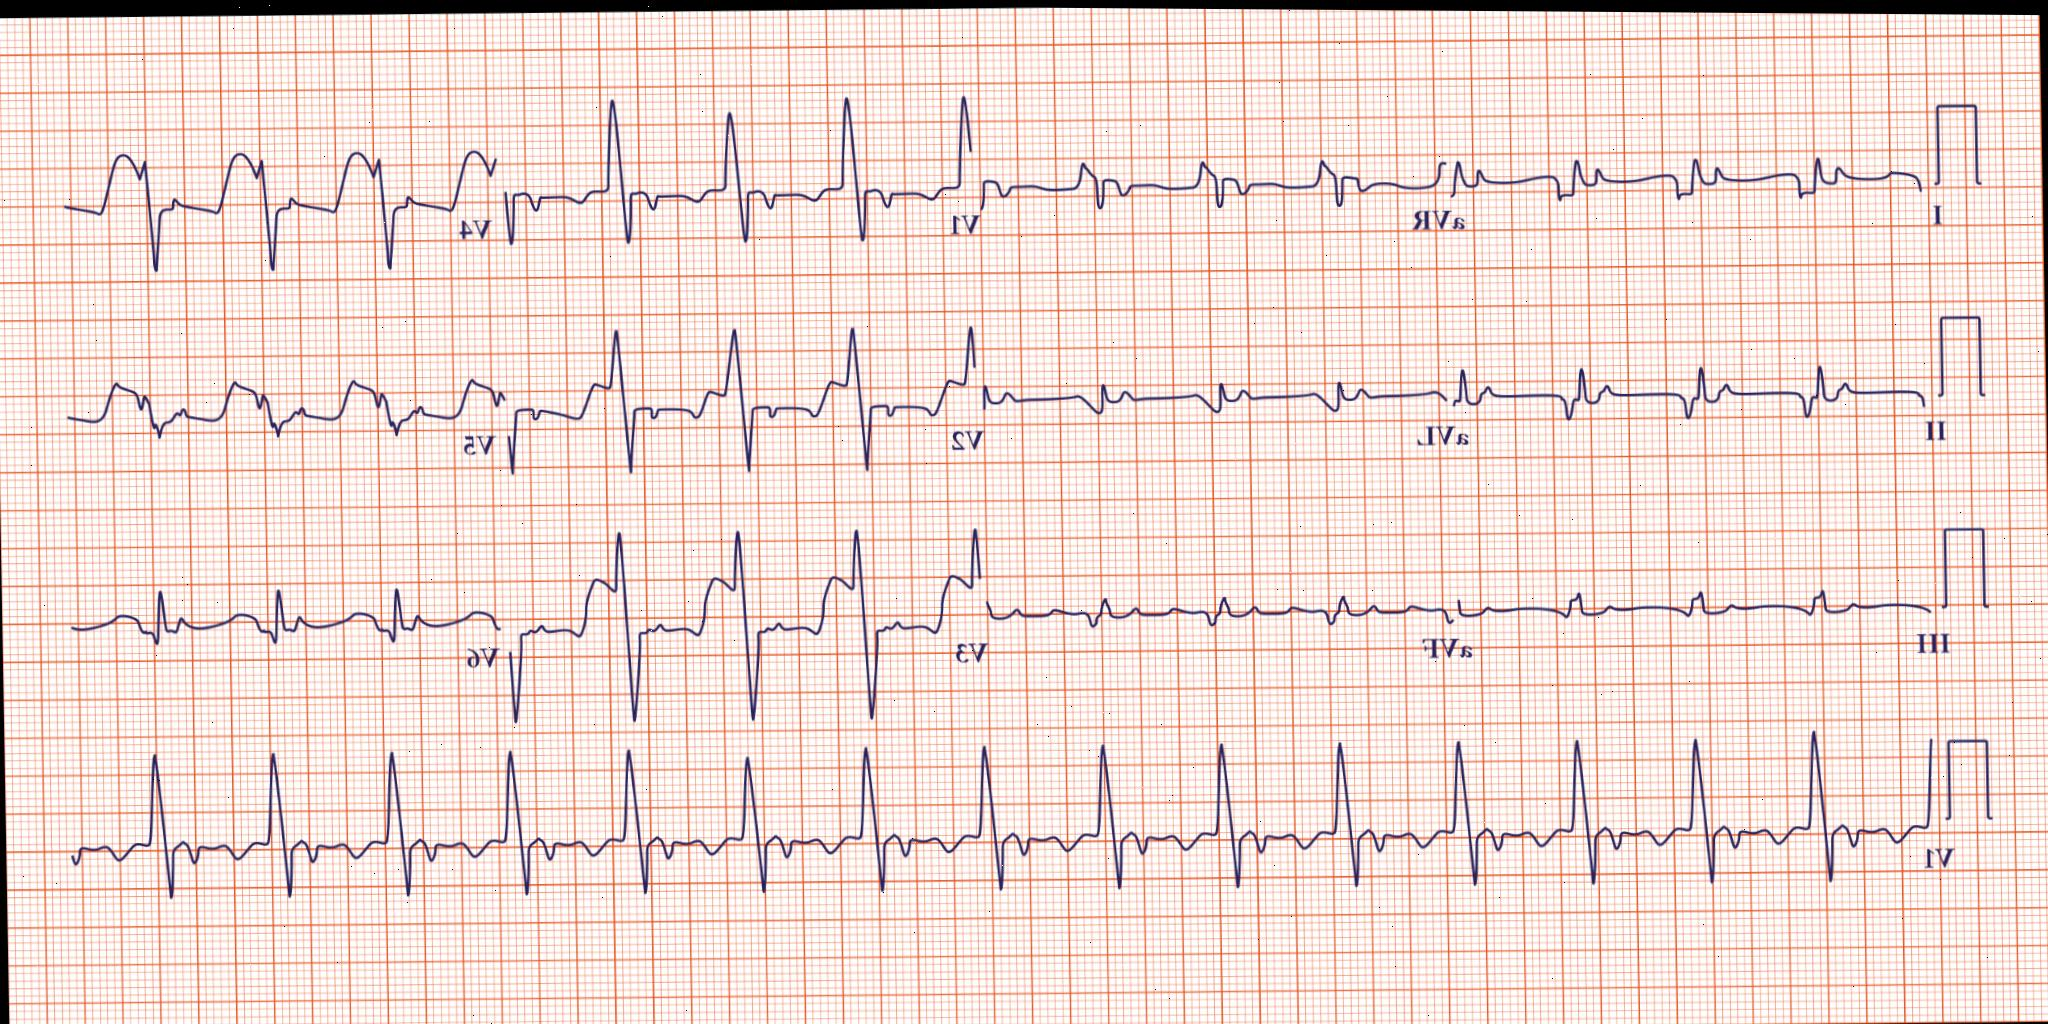Lead_I: (1505, 101, 1957, 251)
Lead_II: (1502, 321, 1958, 462)
Lead_III: (1494, 528, 1963, 687)
Lead_V1: (498, 61, 993, 295)
Lead_V2: (502, 290, 987, 494)
Lead_V3: (498, 512, 989, 741)
Lead_V4: (55, 77, 500, 286)
Lead_V5: (51, 313, 508, 486)
Lead_V6: (47, 534, 499, 704)
Lead_aVF: (980, 532, 1498, 686)
Lead_aVL: (980, 310, 1506, 465)
Lead_aVR: (980, 90, 1498, 283)
